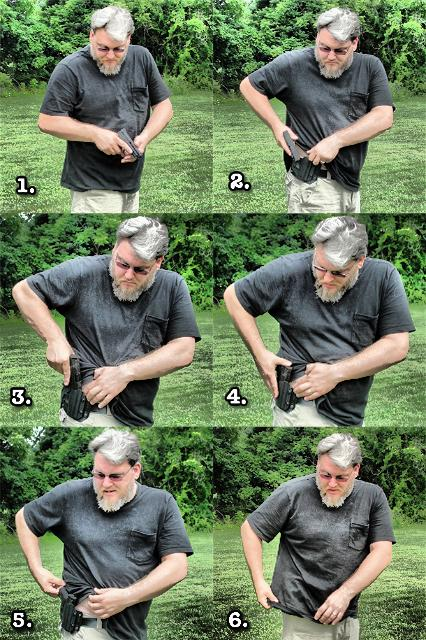pistol: (106, 127, 144, 161), (53, 586, 77, 632), (274, 360, 294, 414), (56, 354, 86, 388), (280, 130, 302, 164)
